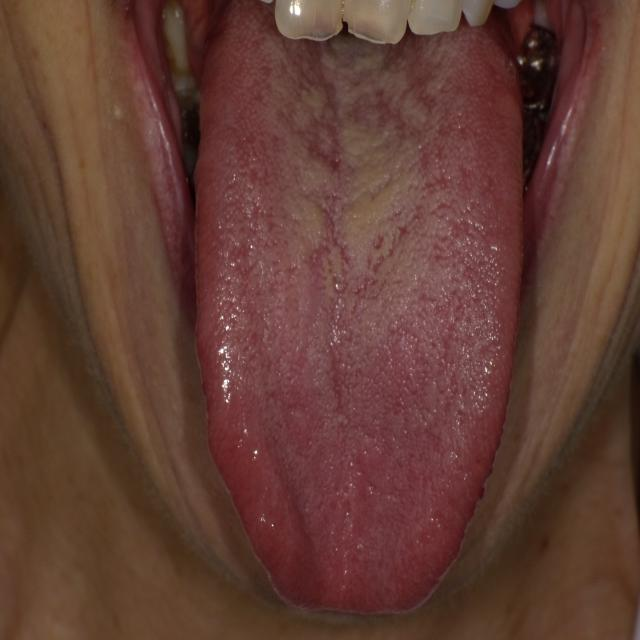hongshe: (197, 1, 525, 613)
huangtaishe: (197, 1, 525, 613)
liewenshe: (317, 201, 424, 410)
shenquao: (244, 1, 455, 164)
